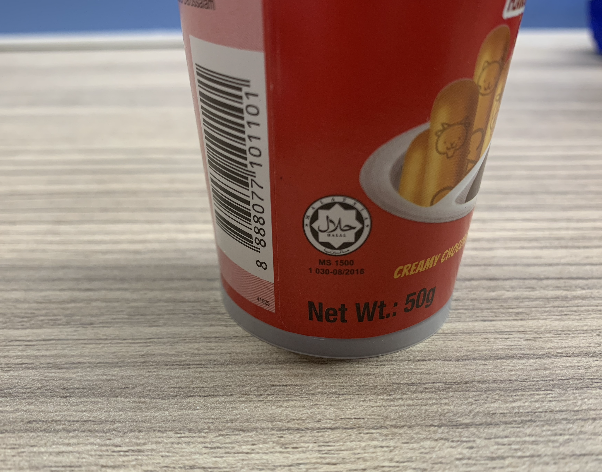halal: (313, 202, 362, 248)
